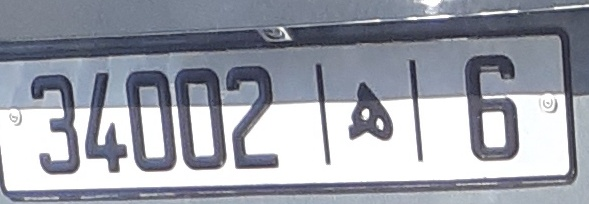0: (128, 65, 177, 177), (179, 62, 225, 173)
2: (227, 58, 280, 171)
3: (24, 70, 83, 185)
4: (82, 65, 128, 181)
6: (454, 48, 531, 168)
h: (335, 74, 399, 152)
